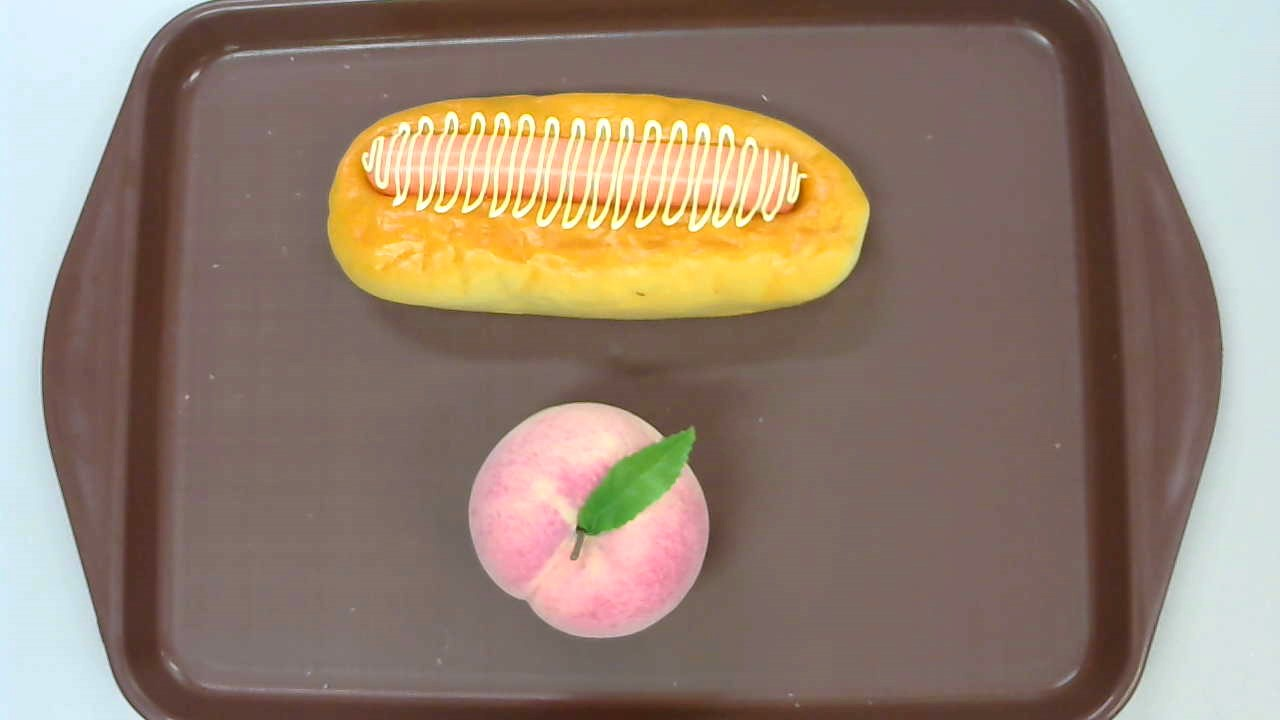hot dog: (327, 91, 871, 322)
peach: (468, 402, 710, 638)
